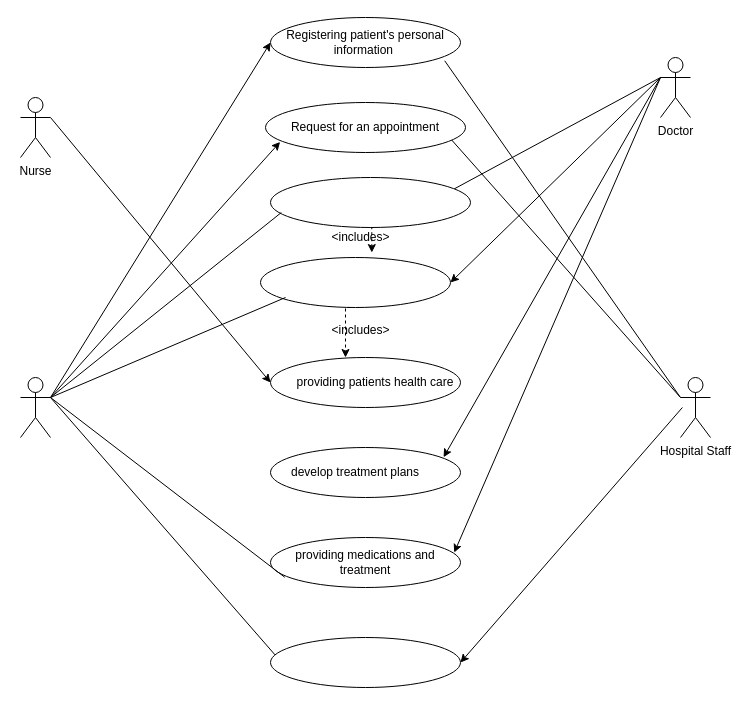
Image size: 748x705. Some labels were removed from this diagram. Here are the shapes that lost their labels. From the top down, the centre of each, then its label:
At (370,202): "Confirm an appointment".
At (355,282): "diagnosing".
At (35,407): "Patient".
At (365,662): "Billing handling".
